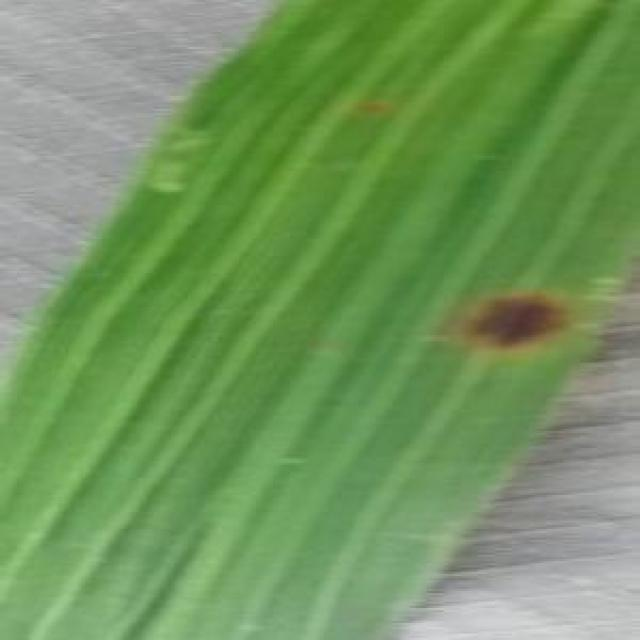brownspots: (480, 282, 555, 344)
